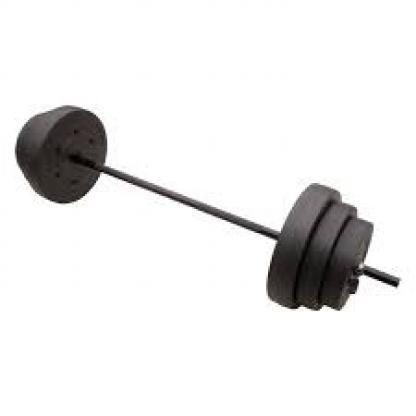Barbell: (386, 271, 408, 293)
